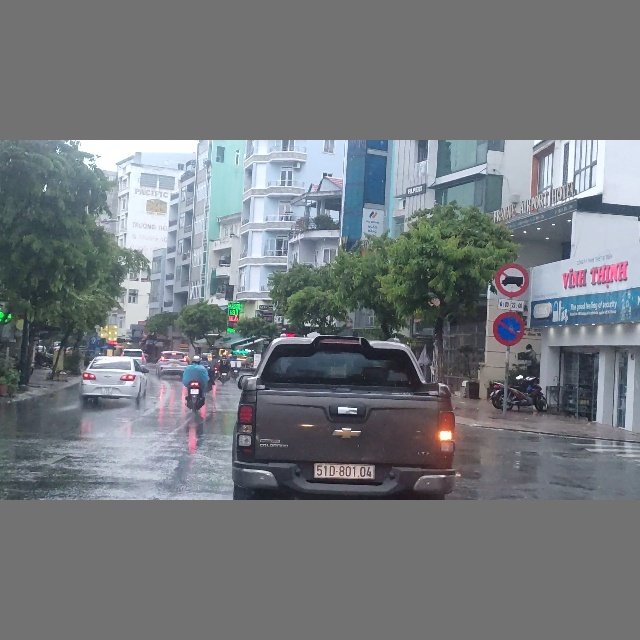P.106a*Xe tai: (496, 262, 530, 298)
P.131a: (493, 311, 525, 346)
